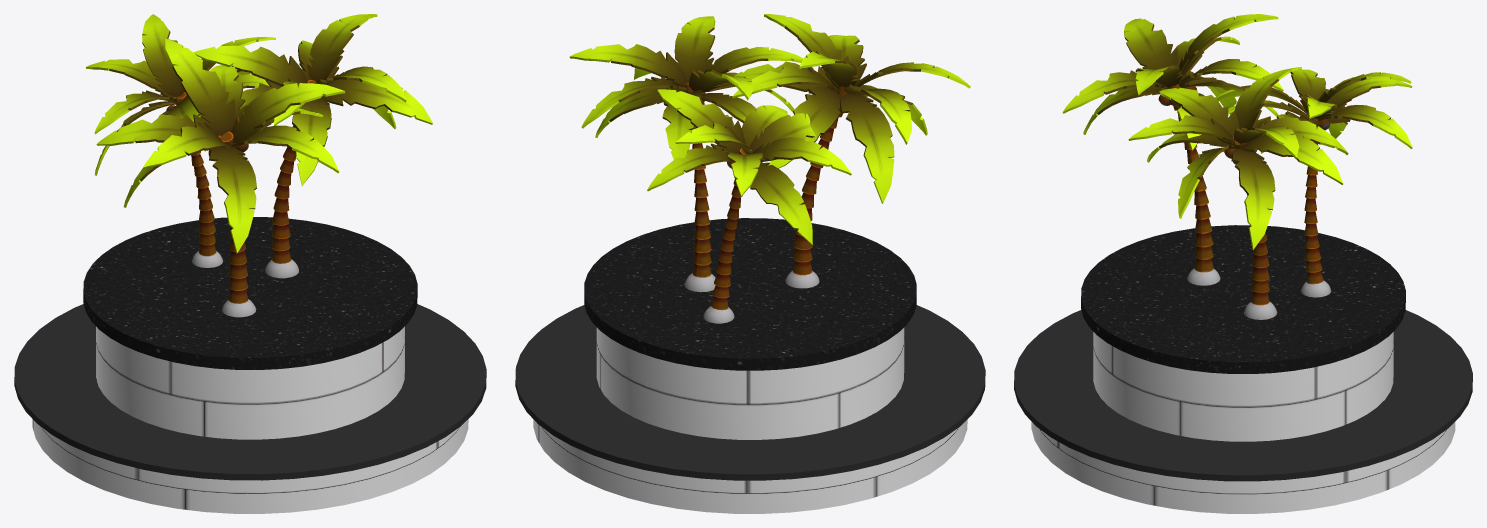
File: fnaf_sb_palm_tree.glb
The picture shows the model from 3 angles, left to right: view 1: azimuth 30°, elevation 25°; view 2: azimuth 150°, elevation 25°; view 3: azimuth 270°, elevation 25°; orthographic projection. The views are drawn at different scales.
Visible parts, largest first — view 1: Object_3, Object_2; view 2: Object_3, Object_2; view 3: Object_3, Object_2.
Part boxes in pixels (x1=…): Object_3: x1=14, y1=14, x2=486, y2=513; Object_2: x1=14, y1=80, x2=486, y2=474; Object_3: x1=515, y1=14, x2=985, y2=513; Object_2: x1=515, y1=83, x2=985, y2=474; Object_3: x1=1014, y1=14, x2=1472, y2=513; Object_2: x1=1014, y1=96, x2=1472, y2=475.
Size of the model in its own units: 5.08 by 4.6 by 5.08.
1 material, 1 textured.
